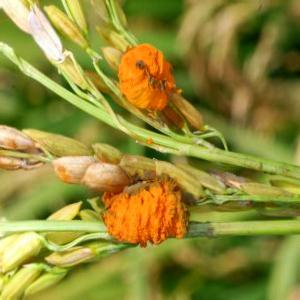Leaf_Scald: (94, 183, 186, 247), (119, 48, 174, 114)
